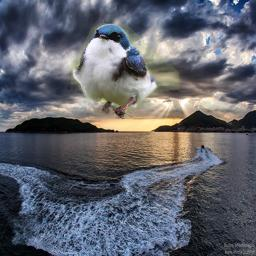Swallow: (71, 23, 180, 119)
